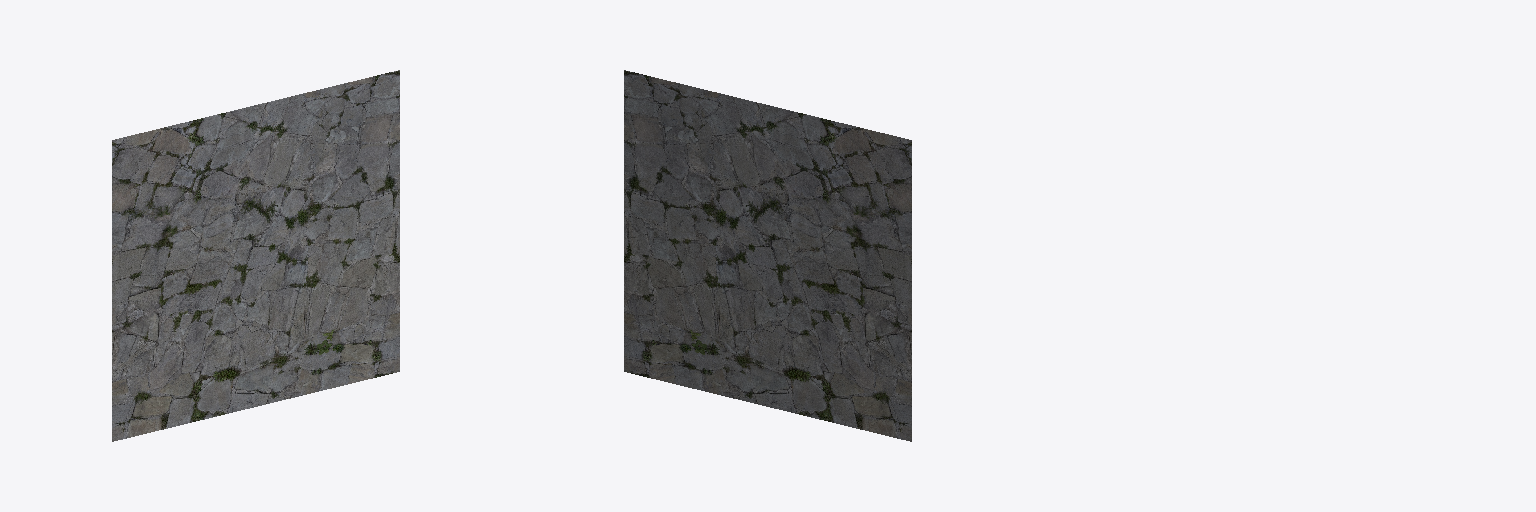
3 views of the same model, side by side, from view 1: azimuth 30°, elevation 25°; view 2: azimuth 150°, elevation 25°; view 3: azimuth 270°, elevation 25° (orthographic).
Parts seen in each view (by area): view 1: PAR; view 2: PAR; view 3: none.
Boxes of the visible parts, box(x1,y1,x2,y2) form: PAR: box(112, 70, 399, 441); PAR: box(624, 70, 911, 441).
Bounding box in the file's own units: 9 × 9 × 0.
1 materials, 1 textured.